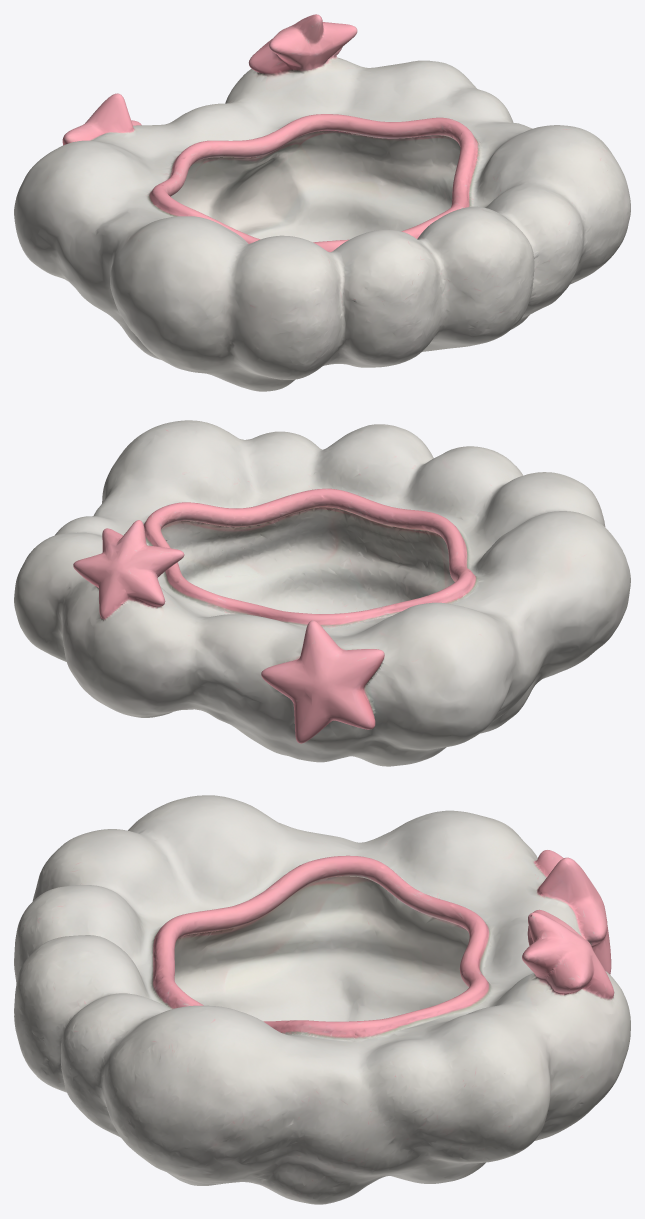
File: cloud-star-bowl-lower.meshy.glb
The picture shows the model from 3 angles, top to bottom: view 1: azimuth 30°, elevation 25°; view 2: azimuth 150°, elevation 25°; view 3: azimuth 270°, elevation 25°; orthographic projection. The views are drawn at different scales.
Parts seen in each view (by area): view 1: Mesh_0; view 2: Mesh_0; view 3: Mesh_0.
Boxes of the visible parts, <box> form: Mesh_0: <box>14,14,630,391</box>; Mesh_0: <box>14,420,630,766</box>; Mesh_0: <box>14,795,630,1204</box>.
Size of the model in its own units: 1.91 by 0.8356 by 1.8.
Materials: 1 (1 with a texture image).
